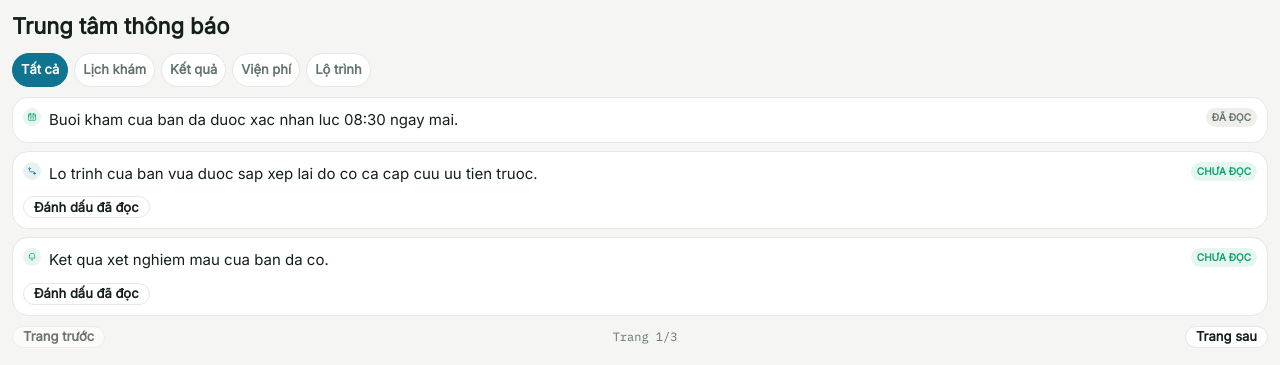
Scenario: NotificationsPage (SCR-09 Notifications center) › filters the list by notification type
Expected: the text "Buoi kham cua ban da duoc xac nhan luc 08:30 ngay mai." is shown, [49, 108, 458, 132]
Click the button "Viện phí". click: (266, 70)
box: [232, 53, 300, 86]
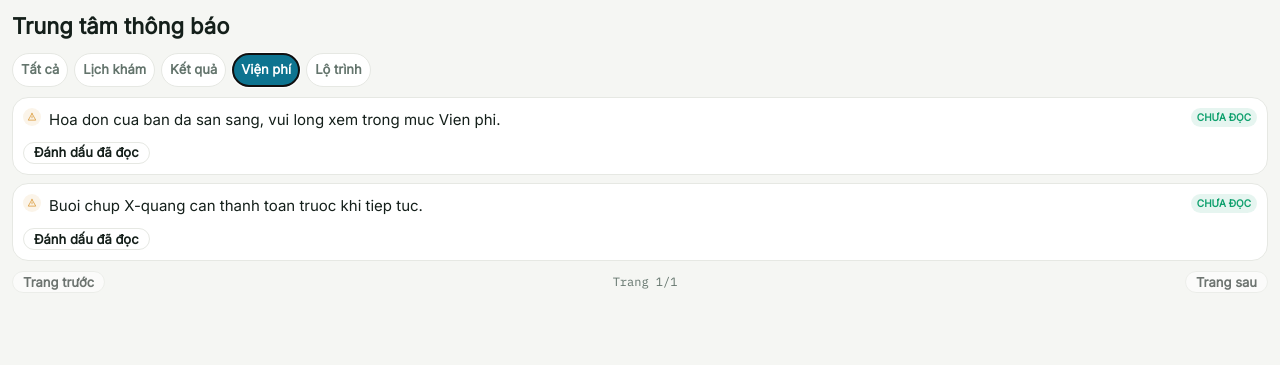
Result: the text "Hoa don cua ban da san sang, vui long xem trong muc Vien phi." is shown at [49, 108, 500, 132]
Result: the text "Buoi kham cua ban da duoc xac nhan luc 08:30 ngay mai." is gone
